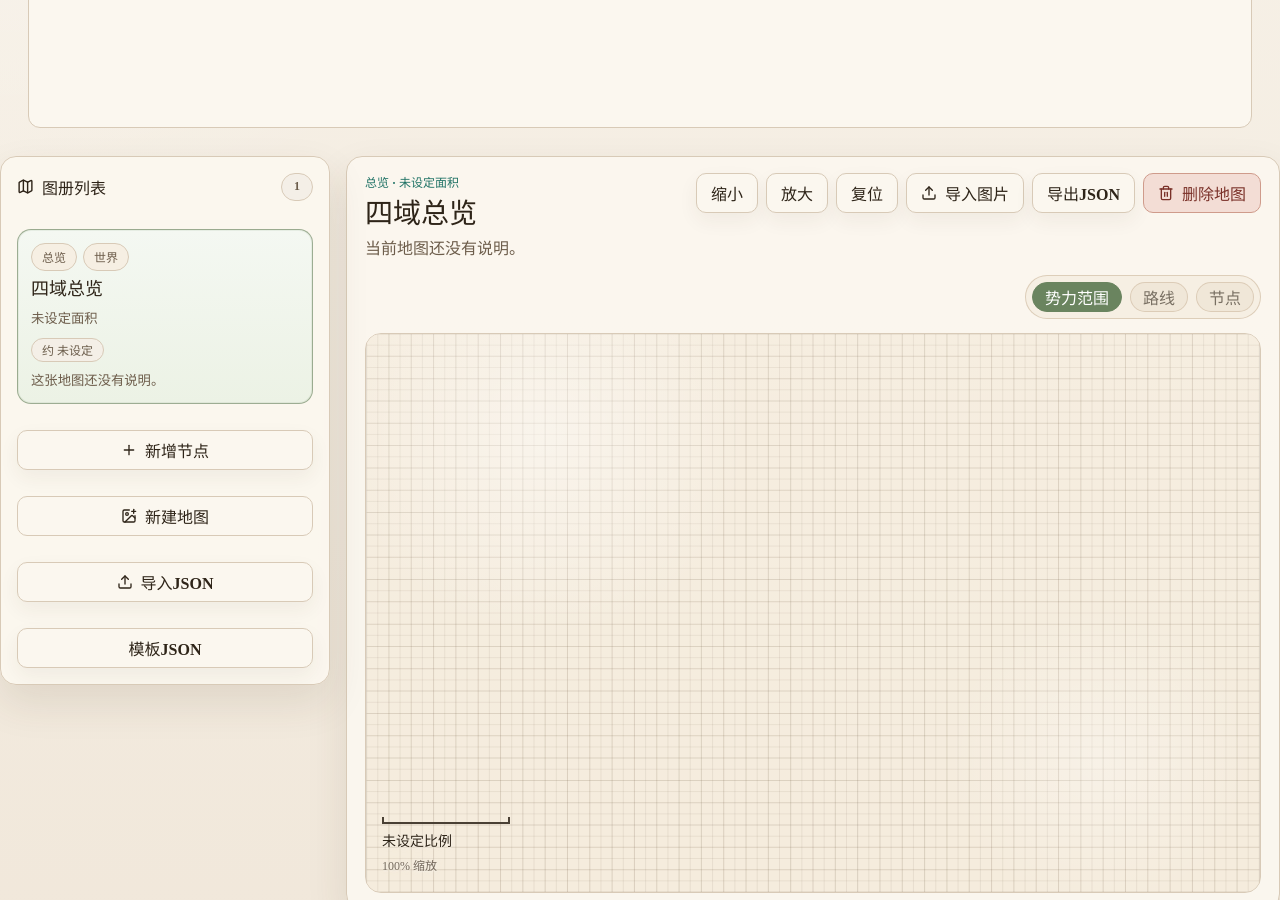
Test: MapWorkspace › clears the new-node message when cancelling node creation
(page scrolled)
What coordinates should you click on to do the following:
click the button "新增节点"
I would click on:
 (165, 450)
Its box is [17, 430, 313, 470].
(page scrolled)
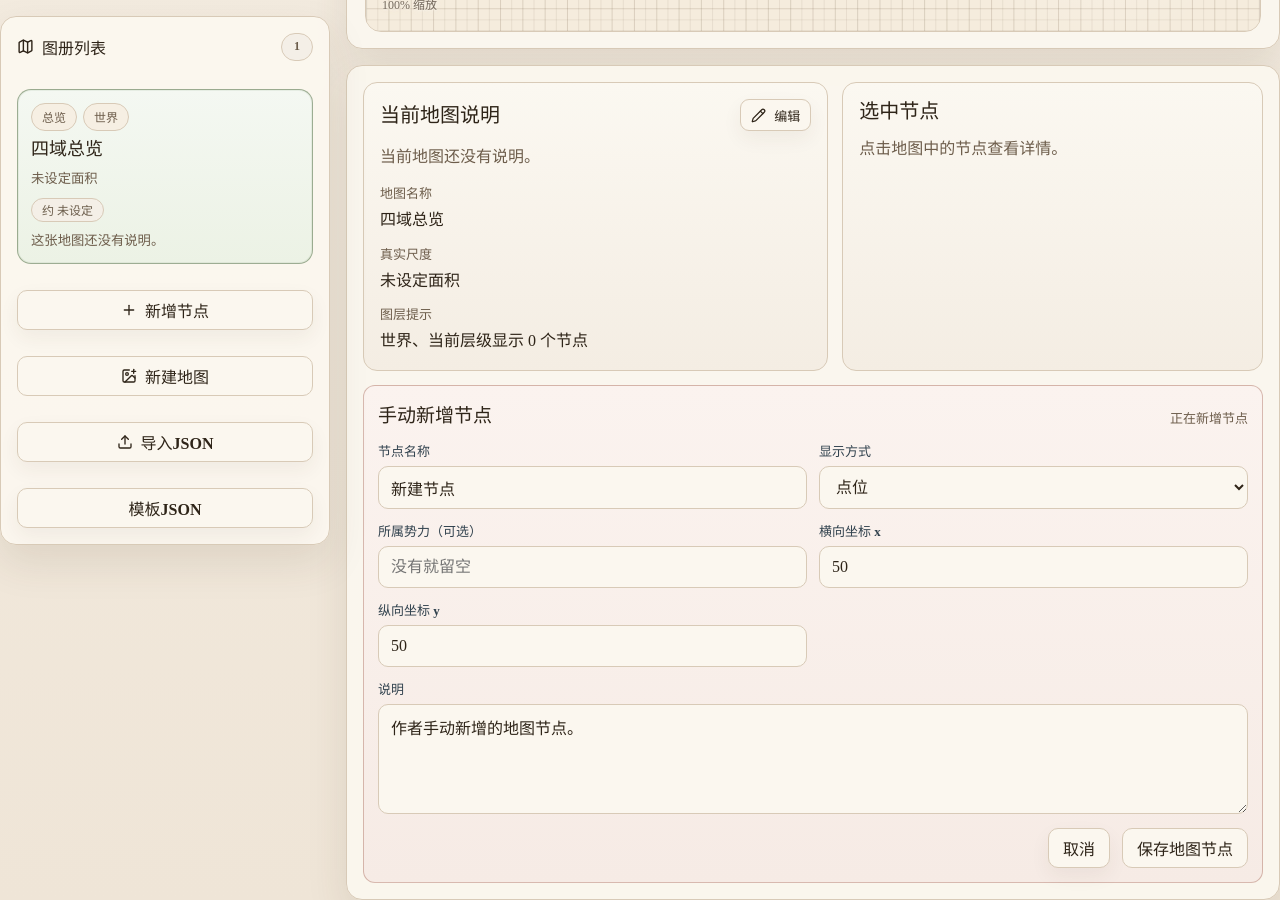
Result: the text "正在新增节点" is shown at [1170, 408, 1248, 427]
What coordinates should you click on to do the following:
click the button "取消"
I would click on:
 (1079, 848)
Its box is [1048, 828, 1110, 868].
(page scrolled)
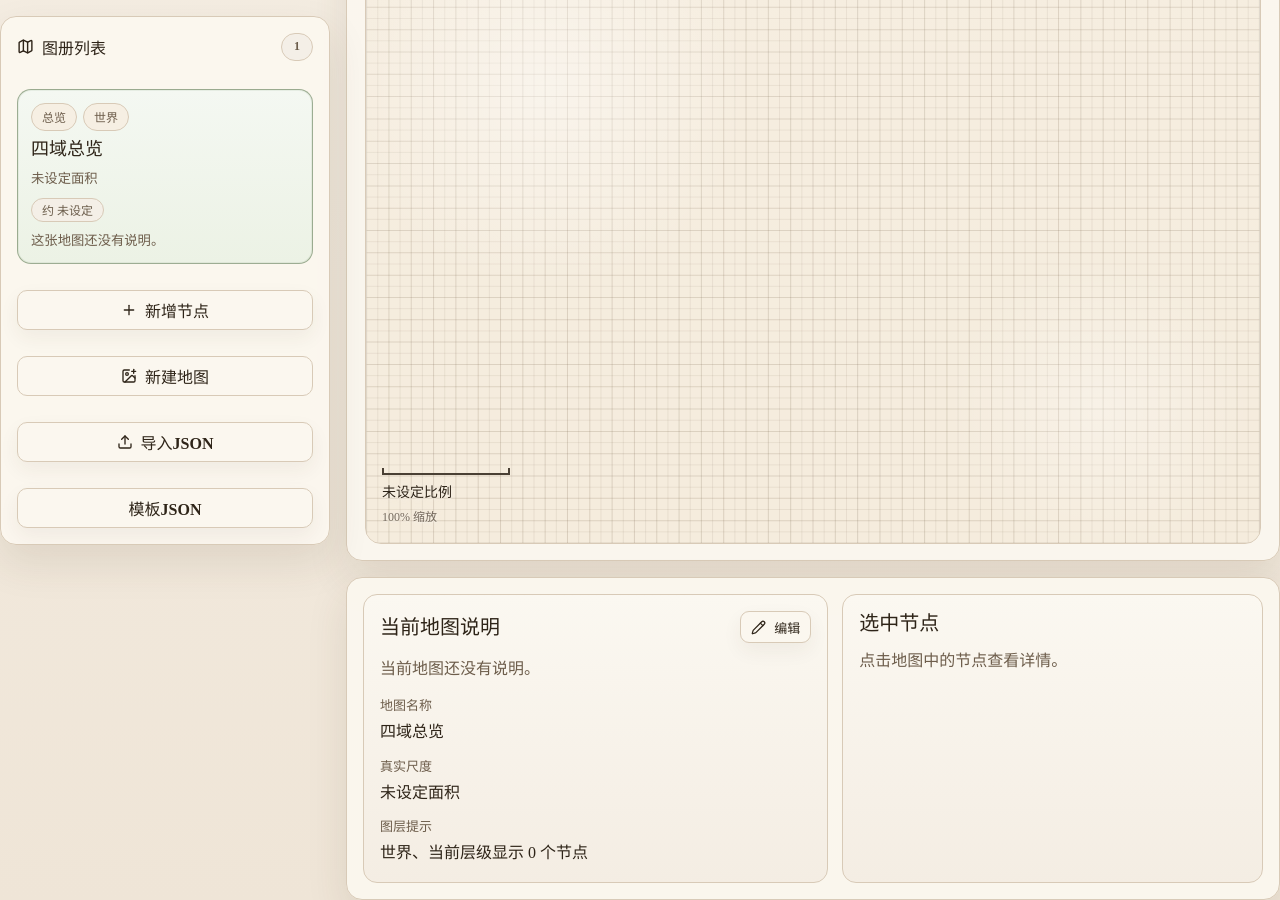
Result: the text "正在新增节点" is gone
Result: the text labelled "节点名称" is gone
